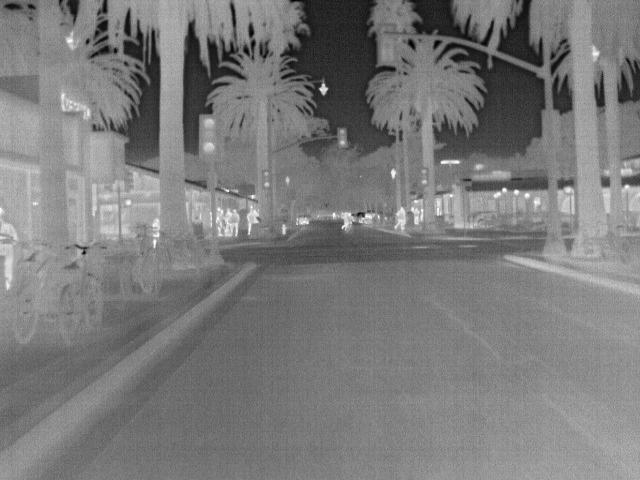car: (294, 213, 311, 225)
person: (1, 204, 18, 287), (392, 204, 408, 234), (338, 206, 355, 232), (247, 207, 261, 236), (227, 209, 241, 238), (150, 215, 163, 239), (410, 206, 422, 226)
